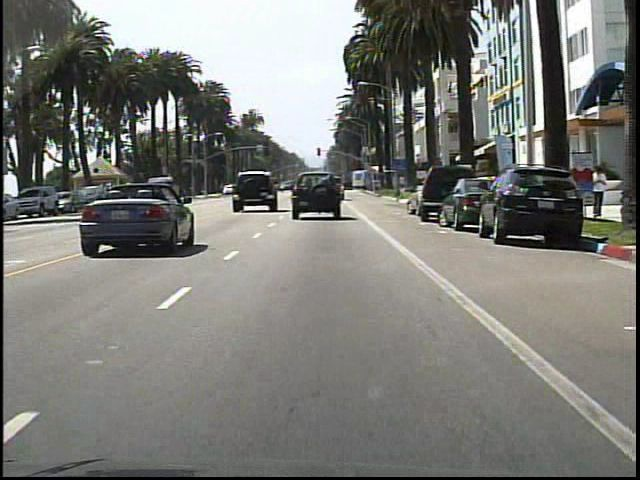person: (590, 163, 608, 219)
